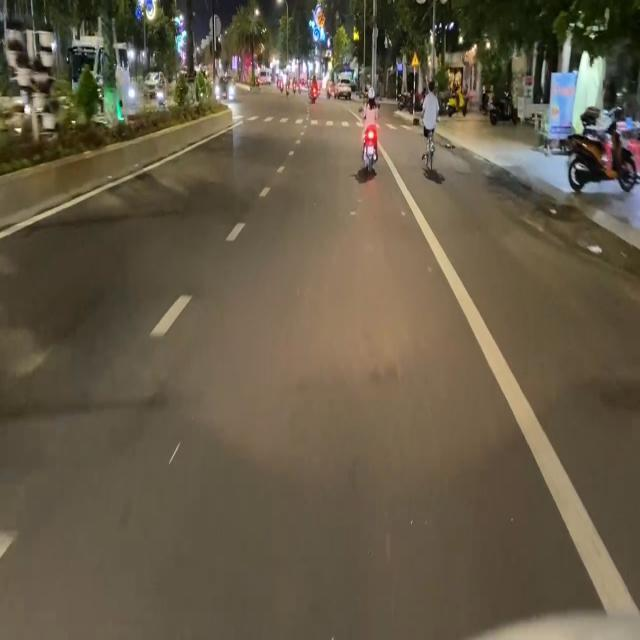walk-crossing: (234, 108, 365, 128), (379, 120, 419, 134)
